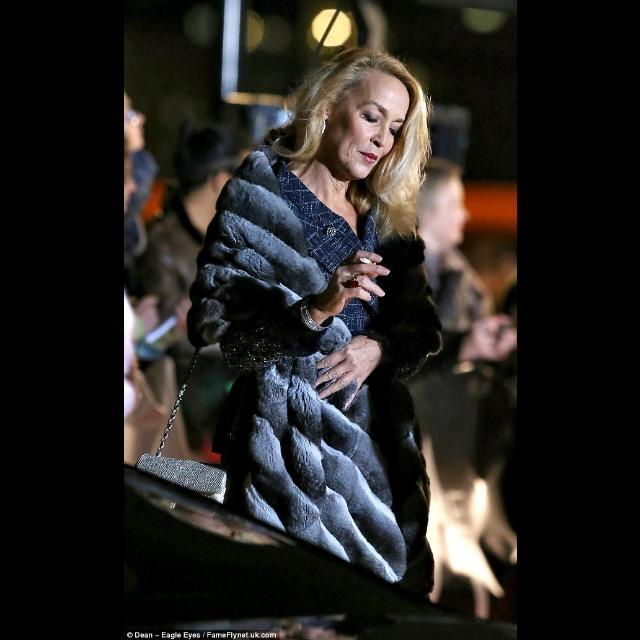rokok: (356, 252, 374, 264)
